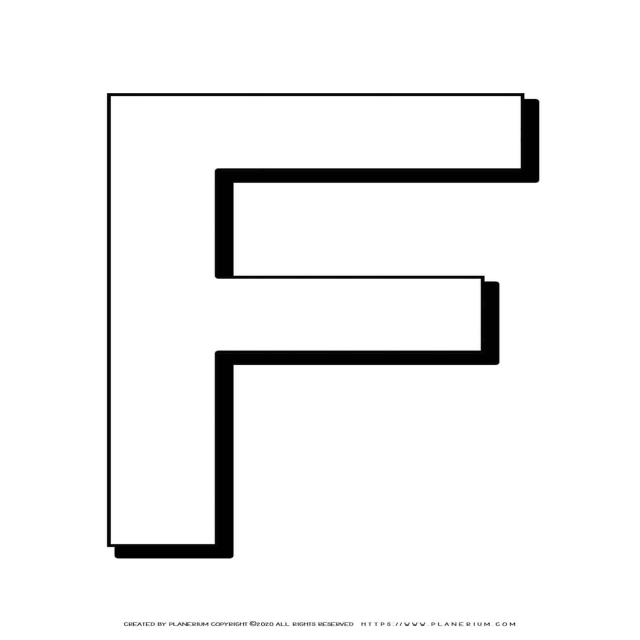F: (32, 45, 574, 612)
